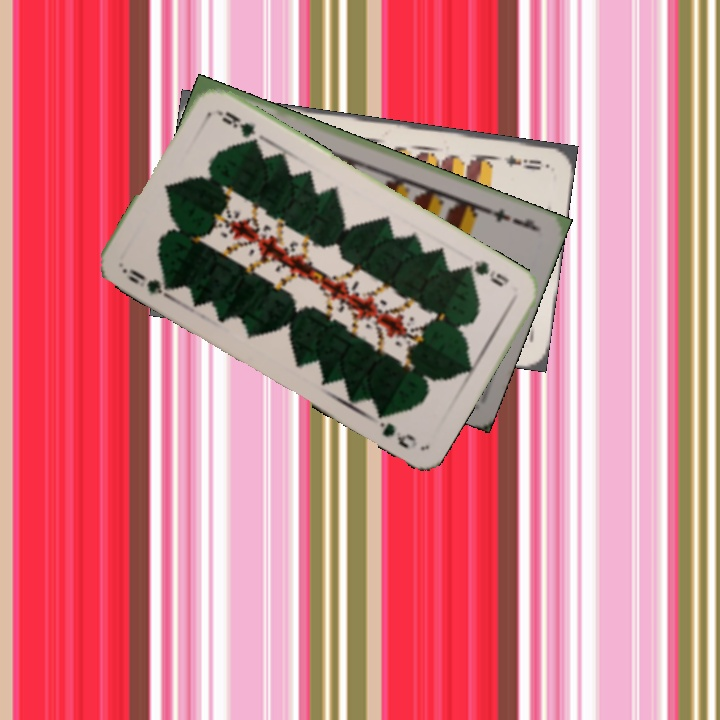E7: (483, 204, 541, 234)
E9: (500, 150, 544, 173)
G9: (118, 264, 177, 301), (459, 256, 512, 290)
